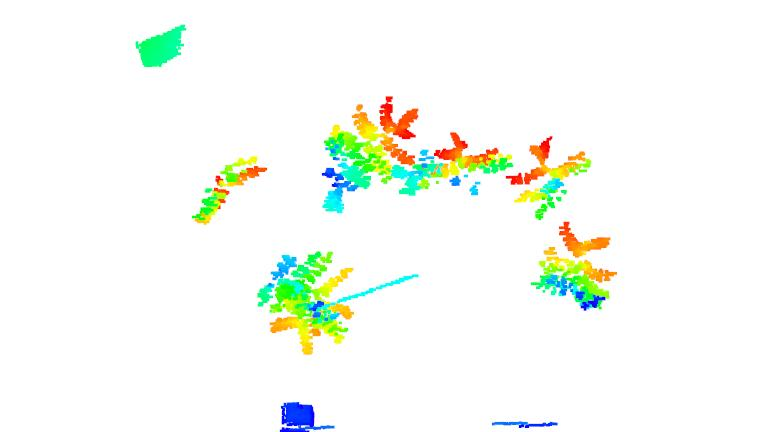chickpea: (320, 93, 418, 209), (259, 246, 353, 353), (508, 133, 591, 226), (534, 220, 610, 311), (416, 128, 512, 196), (193, 151, 270, 227)
